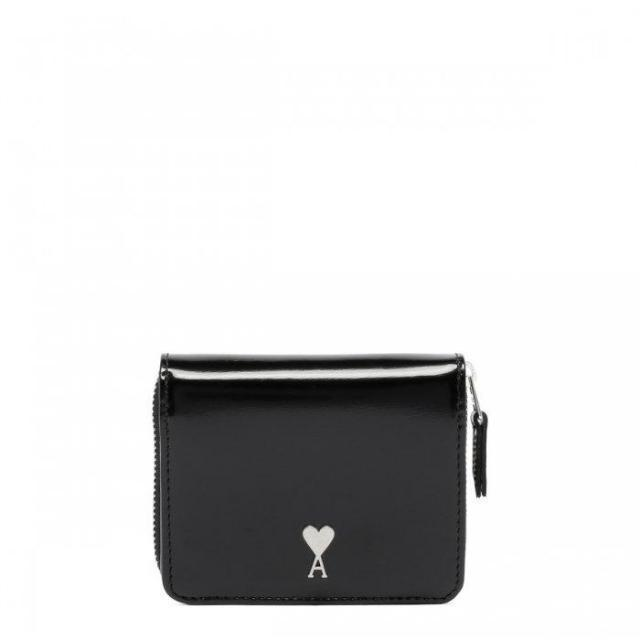Wallet: (154, 356, 486, 604)
